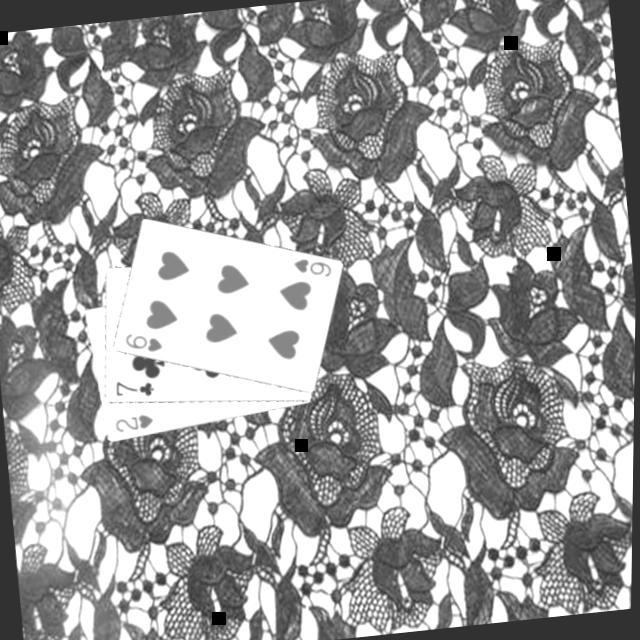2H: (110, 408, 156, 434)
6H: (288, 251, 334, 281), (120, 326, 164, 356)
7C: (110, 373, 156, 400)
